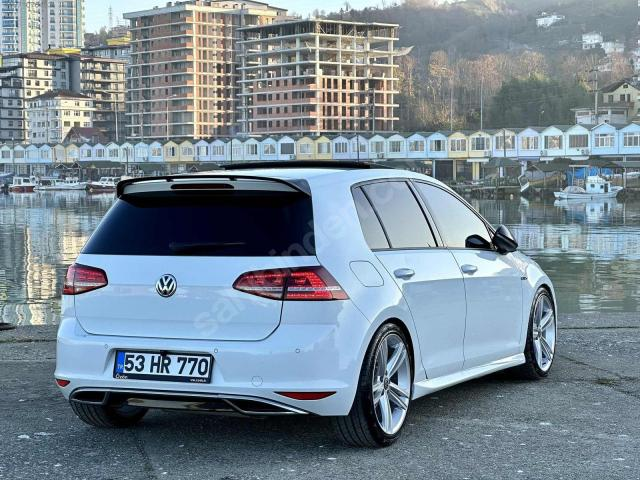plaka: (114, 351, 212, 382)
